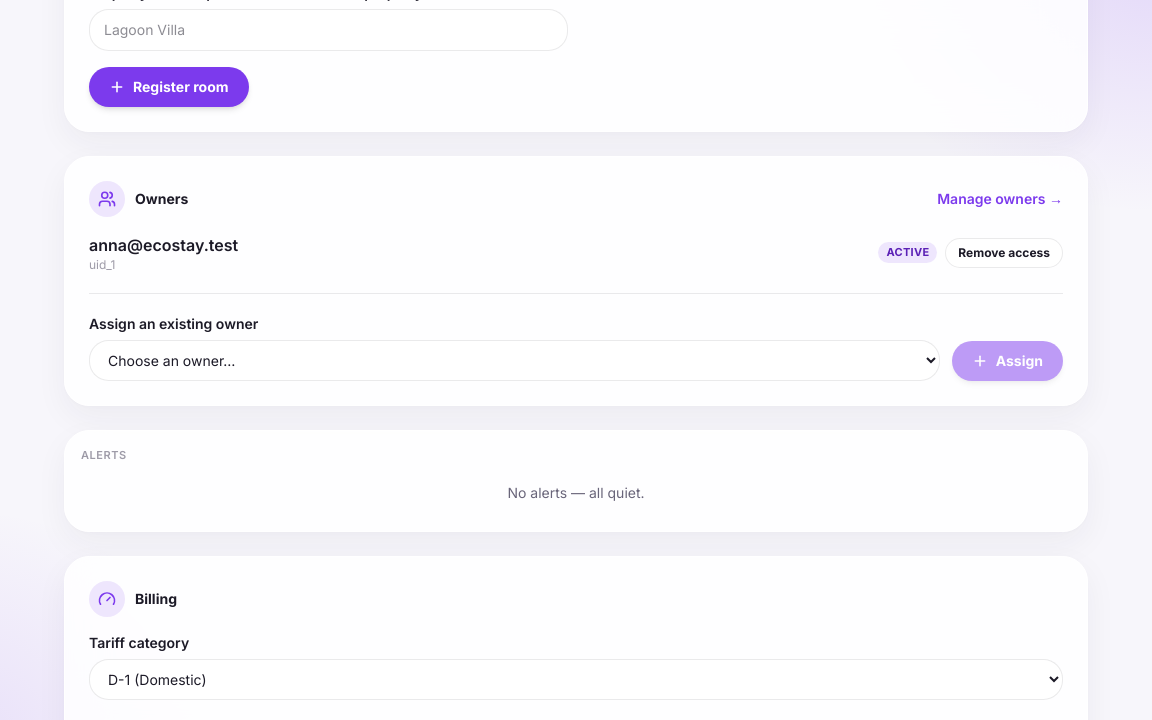
property detail — owner access writes (slice 06, gate #1 approved) › assigns an existing owner picked from the unassigned list
(page scrolled)
Select "ben@ecostay.test" in the dropdown labelled "Assign an existing owner" at (514, 360), box 89,340 -> 940,380
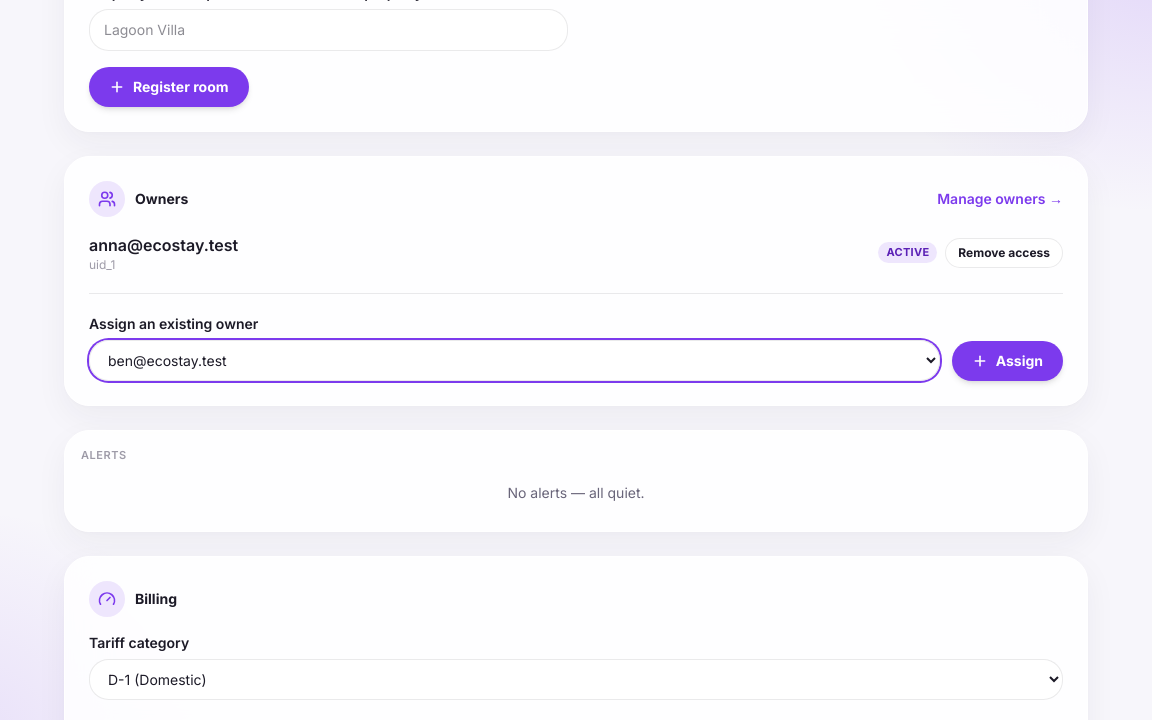
Click the button "Assign".
click(1007, 360)  # box 952,340 -> 1063,380
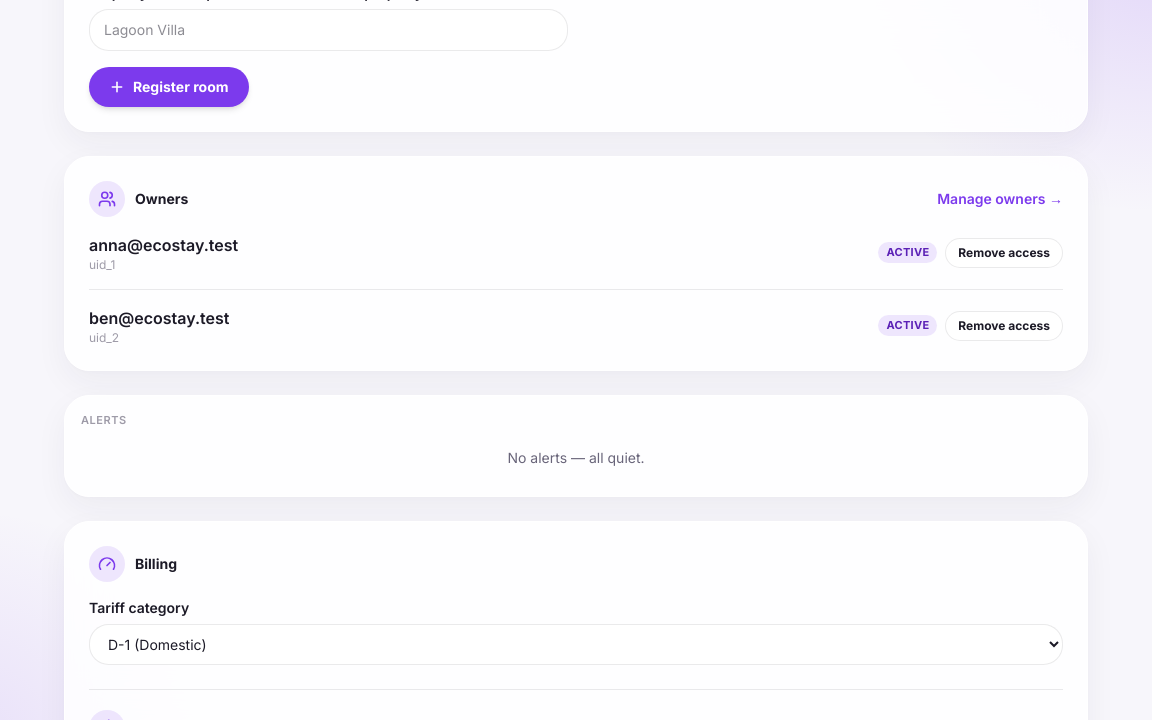
Expected: the text "ben@ecostay.test" is shown, 89,306 -> 230,330
